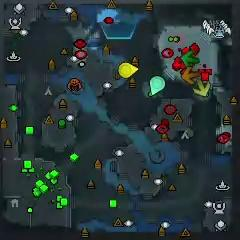p2: (150, 76, 165, 95)
p4: (118, 61, 139, 78)
x2: (193, 77, 212, 96)
x4: (180, 51, 198, 66)
x5: (181, 65, 202, 84)
